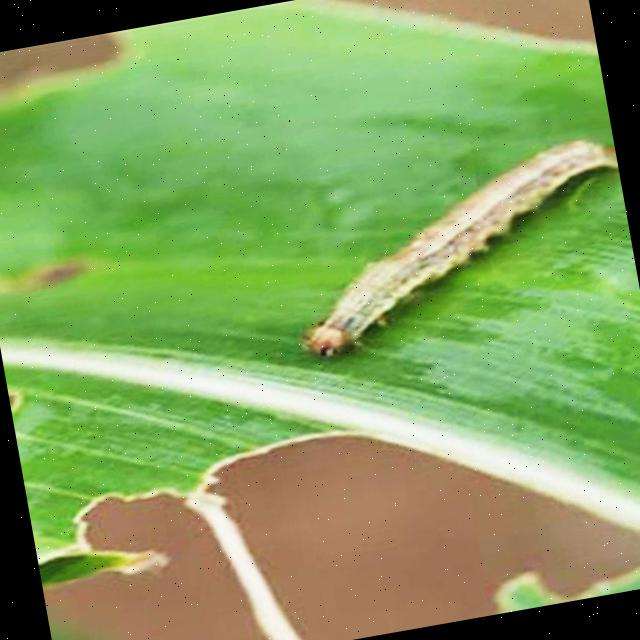worm: (275, 130, 640, 364)
